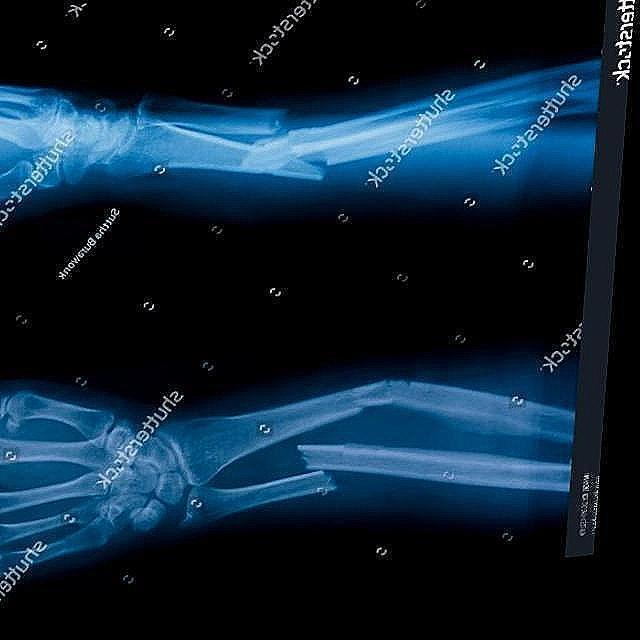bone: (210, 99, 362, 198), (248, 434, 406, 520), (328, 366, 436, 428)
